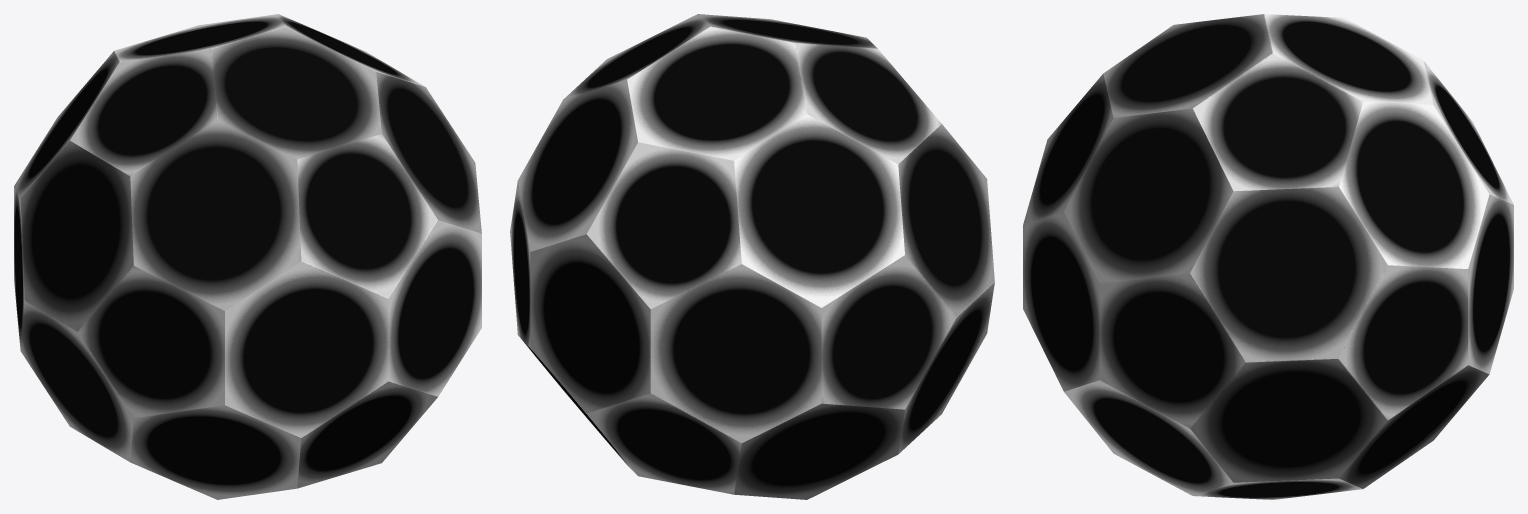
The model's file is hexa.FBX.
3 views of the same model, side by side, from view 1: azimuth 30°, elevation 25°; view 2: azimuth 150°, elevation 25°; view 3: azimuth 270°, elevation 25° (orthographic).
Parts seen in each view (by area): view 1: Hedra001; view 2: Hedra001; view 3: Hedra001.
Boxes of the visible parts, <box> form: Hedra001: <box>14,14,481,499</box>; Hedra001: <box>510,14,994,499</box>; Hedra001: <box>1023,14,1513,499</box>.
Bounding box in the file's own units: 752 × 742 × 739.
1 material, 1 textured.
